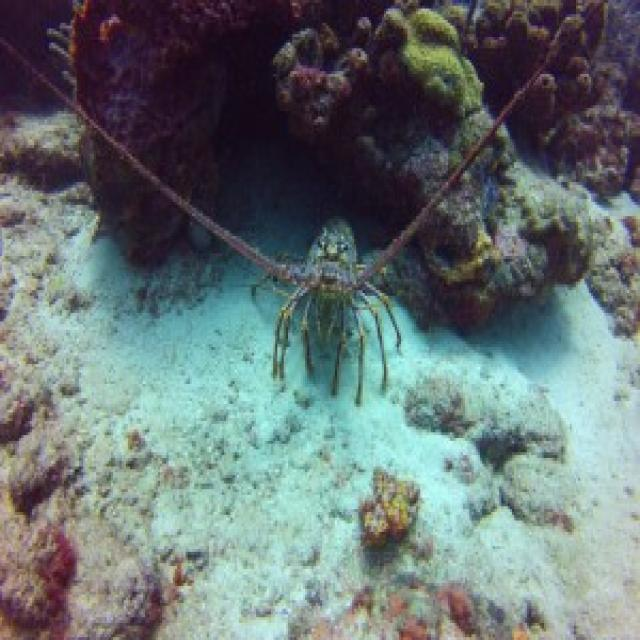lobsters: (41, 108, 519, 400)
